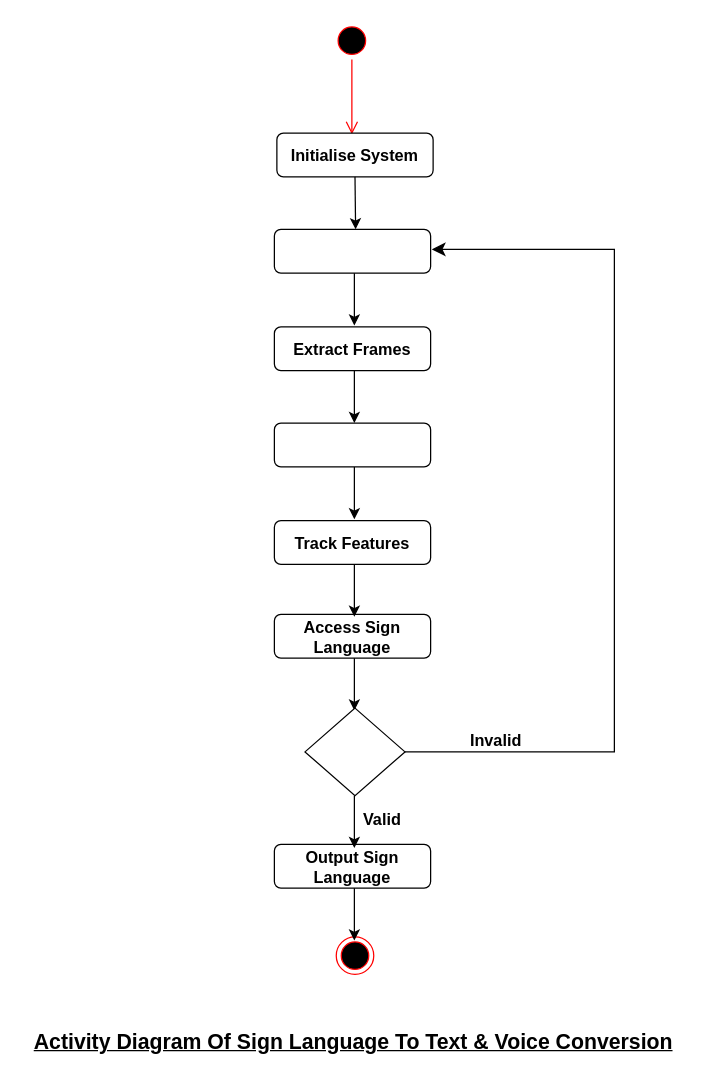
Image size: 704x1085. Some labels were removed from this diagram. Each missing label, with the centre of its shape:
"Check" goes at point 354,751.
"Extract Features" goes at point 352,444.
"Video Capture" goes at point 352,250.
